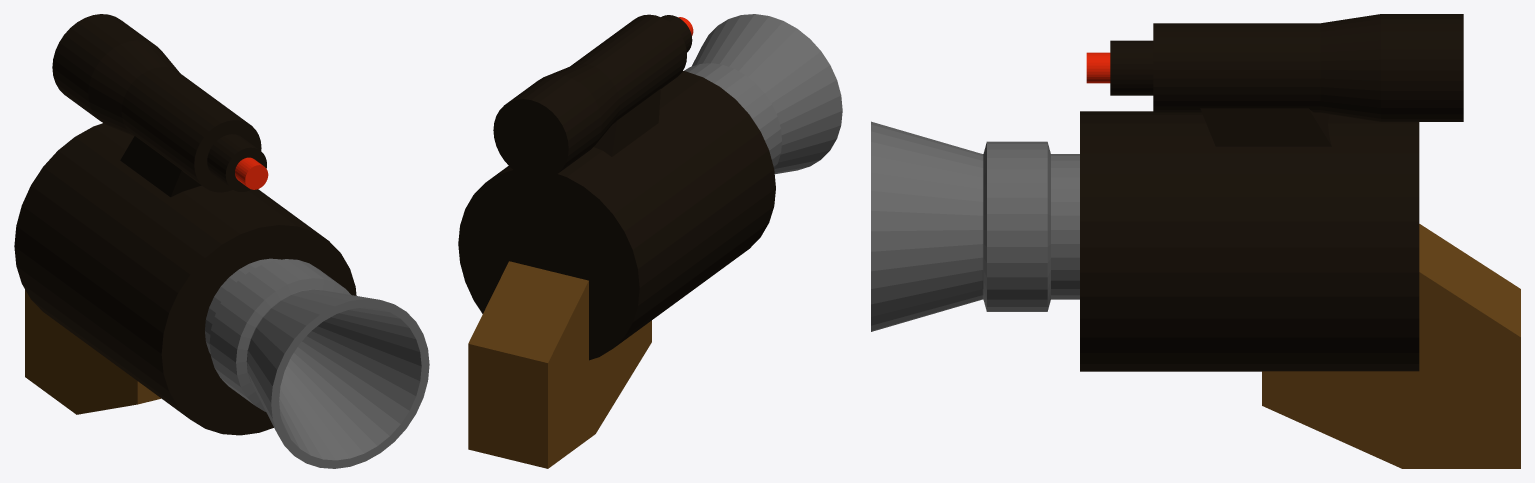
Rendered from Smuggler's Gun.fbx.
3 views of the same model, side by side, from view 1: azimuth 30°, elevation 25°; view 2: azimuth 150°, elevation 25°; view 3: azimuth 270°, elevation 25° (orthographic). The views are drawn at different scales.
Parts seen in each view (by area): view 1: Cylinder; view 2: Cylinder; view 3: Cylinder.
Boxes of the visible parts, x1,y1,x2,y2 form: Cylinder: (14, 14, 429, 468); Cylinder: (458, 14, 842, 468); Cylinder: (871, 14, 1520, 468).
Size of the model in its own units: 56.26 by 101 by 140.
